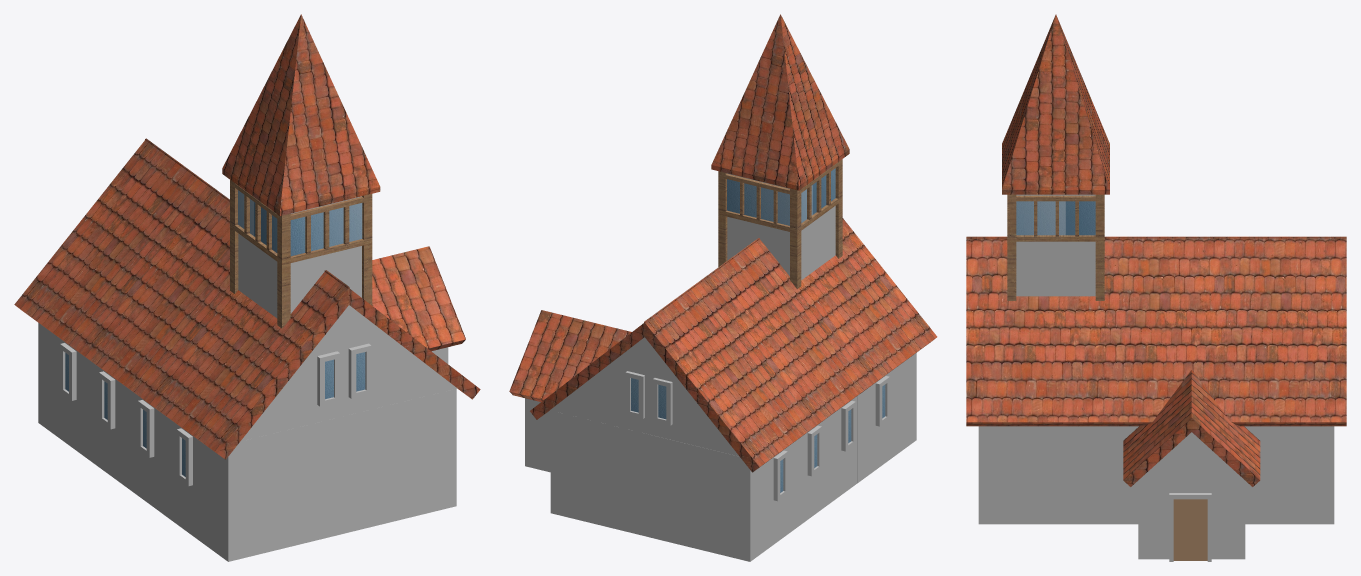
Rendered from Church.fbx.
3 renders of one model, left to right at view 1: azimuth 30°, elevation 25°; view 2: azimuth 150°, elevation 25°; view 3: azimuth 270°, elevation 25°, orthographic. The views are drawn at different scales.
Visible parts, largest first — view 1: mergedBlocks_bricks(Clone)_0.613, mergedBlocks_bricks(Clone)_0.210, mergedBlocks_custom10(Clone)_0.1218, mergedBlocks_custom10(Clone)_0.1252, mergedBlocks_bricks(Clone)_0.622, mergedBlocks_bricks(Clone)_0.213, mergedBlocks_bricks(Clone)_0.212, mergedBlocks_wood(Clone)_0.1492, mergedBlocks_custom10(Clone)_0.1217, mergedBlocks_custom10(Clone)_0.1211, mergedBlocks_custom10(Clone)_0.1451, mergedBlocks_custom10(Clone)_0.1257 (+10 smaller); view 2: mergedBlocks_bricks(Clone)_0.613, mergedBlocks_bricks(Clone)_0.622, mergedBlocks_bricks(Clone)_0.210, mergedBlocks_custom10(Clone)_0.1209, mergedBlocks_custom10(Clone)_0.1243, mergedBlocks_bricks(Clone)_0.214, mergedBlocks_wood(Clone)_0.1485, mergedBlocks_bricks(Clone)_0.212, mergedBlocks_custom10(Clone)_0.1217, mergedBlocks_custom10(Clone)_0.1211, mergedBlocks_custom10(Clone)_0.1457, mergedBlocks_custom10(Clone)_0.1447 (+10 smaller); view 3: mergedBlocks_bricks(Clone)_0.643, mergedBlocks_bricks(Clone)_0.628, mergedBlocks_bricks(Clone)_0.637, mergedBlocks_custom10(Clone)_0.1250, mergedBlocks_bricks(Clone)_0.215, mergedBlocks_custom10(Clone)_0.1244, mergedBlocks_custom10(Clone)_0.1232, mergedBlocks_custom9(Clone)_0.419, mergedBlocks_wood(Clone)_0.1485, mergedBlocks_wood(Clone)_0.1492, mergedBlocks_custom10(Clone)_0.1262, mergedBlocks_custom1(Clone)_0.968 (+13 smaller).
Boxes of the visible parts, <box> form: mergedBlocks_bricks(Clone)_0.613: <box>14,138,204,363</box>; mergedBlocks_bricks(Clone)_0.210: <box>137,270,349,453</box>; mergedBlocks_custom10(Clone)_0.1218: <box>228,416,344,561</box>; mergedBlocks_custom10(Clone)_0.1252: <box>344,389,456,533</box>; mergedBlocks_bricks(Clone)_0.622: <box>94,181,242,394</box>; mergedBlocks_bricks(Clone)_0.213: <box>280,14,379,210</box>; mergedBlocks_bricks(Clone)_0.212: <box>222,15,300,210</box>; mergedBlocks_wood(Clone)_0.1492: <box>372,246,465,348</box>; mergedBlocks_custom10(Clone)_0.1217: <box>161,413,228,561</box>; mergedBlocks_custom10(Clone)_0.1211: <box>38,323,105,471</box>; mergedBlocks_custom10(Clone)_0.1451: <box>343,305,457,416</box>; mergedBlocks_custom10(Clone)_0.1257: <box>105,372,161,512</box>; mergedBlocks_bricks(Clone)_0.613: <box>644,285,829,466</box>; mergedBlocks_bricks(Clone)_0.622: <box>695,238,866,415</box>; mergedBlocks_bricks(Clone)_0.210: <box>802,218,937,388</box>; mergedBlocks_custom10(Clone)_0.1209: <box>648,434,750,561</box>; mergedBlocks_custom10(Clone)_0.1243: <box>550,410,648,536</box>; mergedBlocks_bricks(Clone)_0.214: <box>711,14,798,185</box>; mergedBlocks_wood(Clone)_0.1485: <box>509,310,631,399</box>; mergedBlocks_bricks(Clone)_0.212: <box>780,15,849,185</box>; mergedBlocks_custom10(Clone)_0.1217: <box>858,353,916,482</box>; mergedBlocks_custom10(Clone)_0.1211: <box>750,432,808,561</box>; mergedBlocks_custom10(Clone)_0.1457: <box>550,337,649,434</box>; mergedBlocks_custom10(Clone)_0.1447: <box>650,344,739,456</box>; mergedBlocks_bricks(Clone)_0.643: <box>1196,236,1346,422</box>; mergedBlocks_bricks(Clone)_0.628: <box>966,236,1116,422</box>; mergedBlocks_bricks(Clone)_0.637: <box>1075,236,1225,422</box>; mergedBlocks_custom10(Clone)_0.1250: <box>978,426,1103,524</box>; mergedBlocks_bricks(Clone)_0.215: <box>1002,14,1109,189</box>; mergedBlocks_custom10(Clone)_0.1244: <box>1244,426,1334,524</box>; mergedBlocks_custom10(Clone)_0.1232: <box>1138,474,1245,559</box>; mergedBlocks_custom9(Clone)_0.419: <box>1016,194,1095,296</box>; mergedBlocks_wood(Clone)_0.1485: <box>1191,370,1260,479</box>; mergedBlocks_wood(Clone)_0.1492: <box>1123,370,1191,479</box>; mergedBlocks_custom10(Clone)_0.1262: <box>1104,426,1138,524</box>; mergedBlocks_custom1(Clone)_0.968: <box>1016,201,1095,235</box>.
Size of the model in its own units: 2963 by 4175 by 3139.
